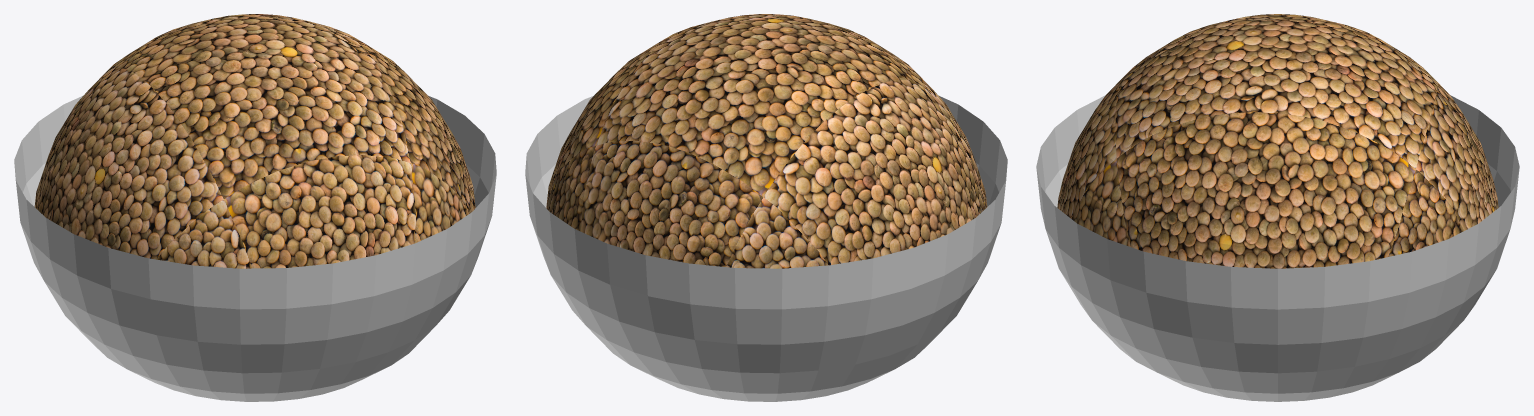
File: bowl_pigeonpeas.glb
3 views of the same model, side by side, from view 1: azimuth 30°, elevation 25°; view 2: azimuth 150°, elevation 25°; view 3: azimuth 270°, elevation 25° (orthographic).
Parts seen in each view (by area): view 1: Sphere.001, Sphere; view 2: Sphere.001, Sphere; view 3: Sphere.001, Sphere.
Part boxes in pixels (bbox=[...]): Sphere.001: bbox=[34, 14, 475, 268]; Sphere: bbox=[14, 95, 496, 401]; Sphere.001: bbox=[546, 14, 987, 268]; Sphere: bbox=[525, 95, 1007, 401]; Sphere.001: bbox=[1057, 14, 1498, 268]; Sphere: bbox=[1036, 95, 1519, 401].
Bounding box in the file's own units: 2 × 1.43 × 2.
Materials: 2 (1 with a texture image).
